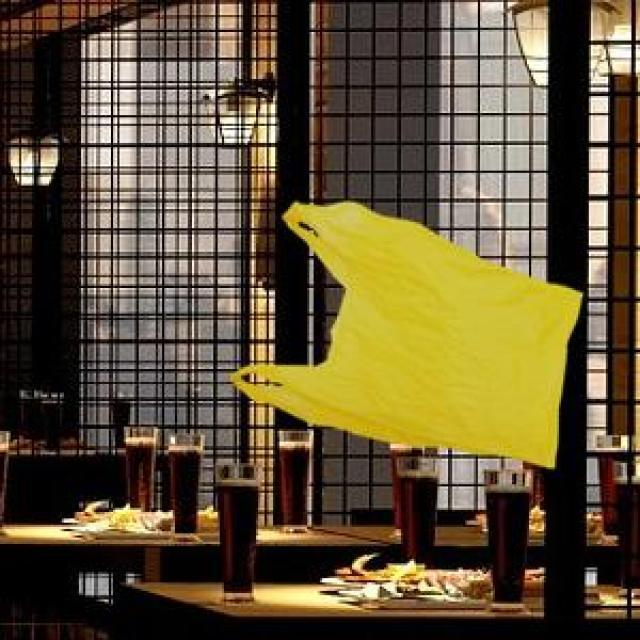waste: (232, 202, 580, 467)
